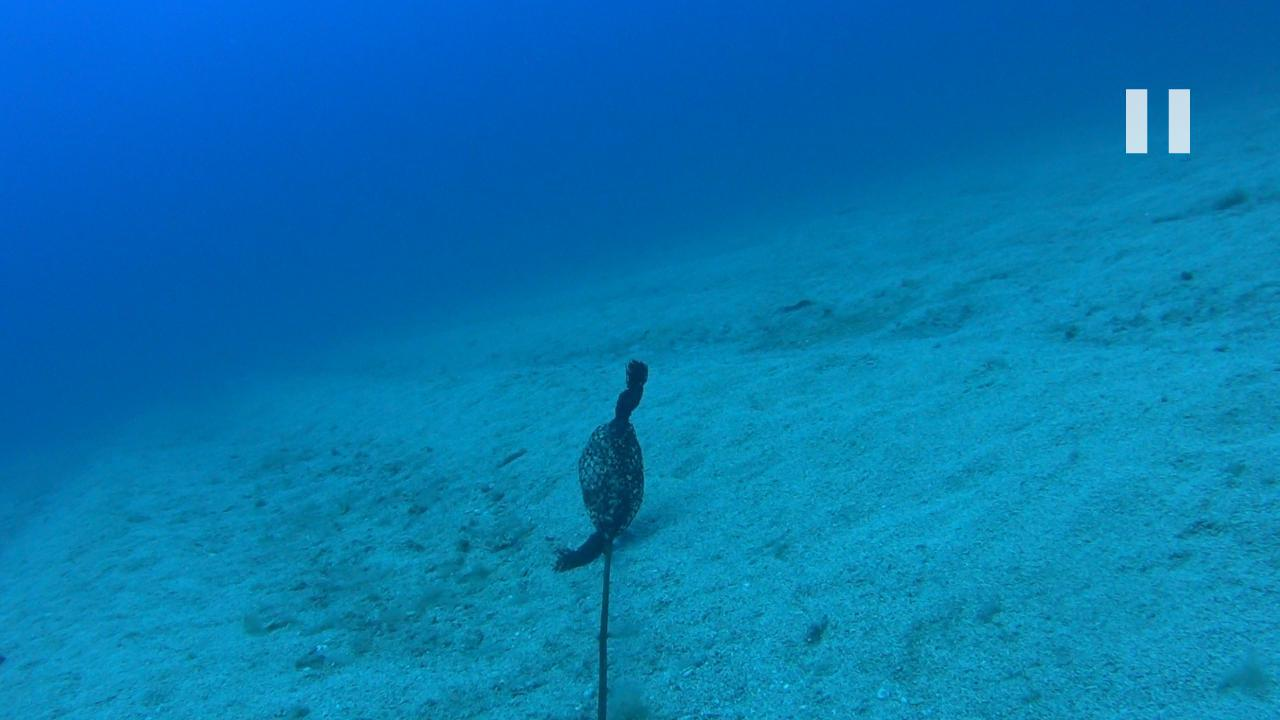bothus: (772, 286, 821, 318), (493, 441, 526, 470)
